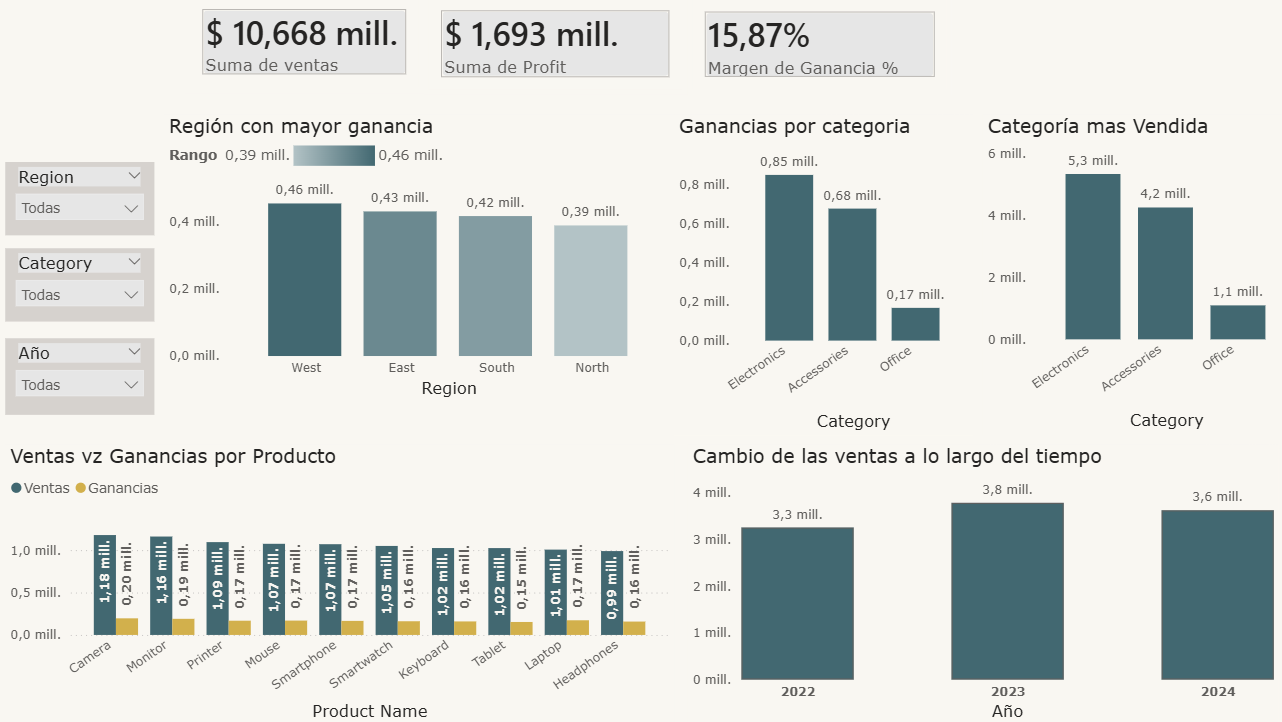

What the dashboard file says about the page in this screenshot:
{"tool":"powerbi","page":{"name":"Página 1","canvas":[1280,720],"ordinal":0},"visuals":[{"type":"columnChart","title":"Categoría mas Vendida","fields":{"Category":["E_commerce_Sales_Analysis__2.Category"],"Y":["Sum(E_commerce_Sales_Analysis__2.Sales)"]},"box":[965.6,120.2,314.1,314.1],"z":0},{"type":"slicer","fields":{"Values":["E_commerce_Sales_Analysis__2.Order Date.Variación.Jerarquía de fechas.Año"]},"box":[6.1,339.9,146,74.8],"z":1000},{"type":"clusteredColumnChart","title":"Región con mayor ganancia","fields":{"Y":["Sum(E_commerce_Sales_Analysis__2.Profit)"],"Category":["E_commerce_Sales_Analysis__2.Region"]},"box":[162,120.2,500.6,282.2],"z":2000},{"type":"clusteredColumnChart","title":"Cambio de las ventas a lo largo del tiempo","fields":{"Y":["Sum(E_commerce_Sales_Analysis__2.Sales)"],"Category":["E_commerce_Sales_Analysis__2.Order Date.Variación.Jerarquía de fechas.Año"]},"box":[676.1,444.2,580.4,276.1],"z":3000},{"type":"clusteredColumnChart","title":"Ventas vz Ganancias por Producto","fields":{"Category":["E_commerce_Sales_Analysis__2.Product Name"],"Y":["Sum(E_commerce_Sales_Analysis__2.Sales)","Sum(E_commerce_Sales_Analysis__2.Profit)"]},"box":[6.1,444.2,656.4,276.1],"z":4000},{"type":"actionButton","box":[0,0,100,40],"z":5000},{"type":"columnChart","title":"Ganancias por categoria ","fields":{"Category":["E_commerce_Sales_Analysis__2.Category"],"Y":["Sum(E_commerce_Sales_Analysis__2.Profit)"]},"box":[662.6,120.2,293.3,315.3],"z":6000},{"type":"slicer","fields":{"Values":["E_commerce_Sales_Analysis__2.Region"]},"box":[6.1,166.9,146,72.4],"z":7000},{"type":"slicer","fields":{"Values":["E_commerce_Sales_Analysis__2.Category"]},"box":[6.1,251.5,146,72.4],"z":8000},{"type":"cardVisual","fields":{"Data":["Sum(E_commerce_Sales_Analysis__2.Sales)"]},"box":[182.6,0,234.9,98.8],"z":9000},{"type":"cardVisual","fields":{"Data":["Sum(E_commerce_Sales_Analysis__2.Profit)"]},"box":[417.2,1.2,258.9,99.4],"z":10000},{"type":"cardVisual","fields":{"Data":["E_commerce_Sales_Analysis__2.Margen de Ganancia %"]},"box":[675.6,2.3,259.3,98.8],"z":11000}]}

Visuals, with their boxes in screenshot pixels (x1, y1, x2, y2), scaled from the page's 1280x720 canvas onto the 1282x722 screenshot:
"Categoría mas Vendida" columnChart: locate(967, 121, 1281, 436)
slicer - E_commerce_Sales_Analysis__2.Order Date.Variación.Jerarquía de fechas.Año: locate(6, 341, 152, 416)
"Región con mayor ganancia" clusteredColumnChart: locate(162, 121, 664, 404)
"Cambio de las ventas a lo largo del tiempo" clusteredColumnChart: locate(677, 445, 1258, 721)
"Ventas vz Ganancias por Producto" clusteredColumnChart: locate(6, 445, 664, 721)
actionButton: locate(0, 0, 100, 40)
"Ganancias por categoria " columnChart: locate(664, 121, 957, 437)
slicer - E_commerce_Sales_Analysis__2.Region: locate(6, 167, 152, 240)
slicer - E_commerce_Sales_Analysis__2.Category: locate(6, 252, 152, 325)
cardVisual - Sum(E_commerce_Sales_Analysis__2.Sales): locate(183, 0, 418, 99)
cardVisual - Sum(E_commerce_Sales_Analysis__2.Profit): locate(418, 1, 677, 101)
cardVisual - E_commerce_Sales_Analysis__2.Margen de Ganancia %: locate(677, 2, 936, 101)
